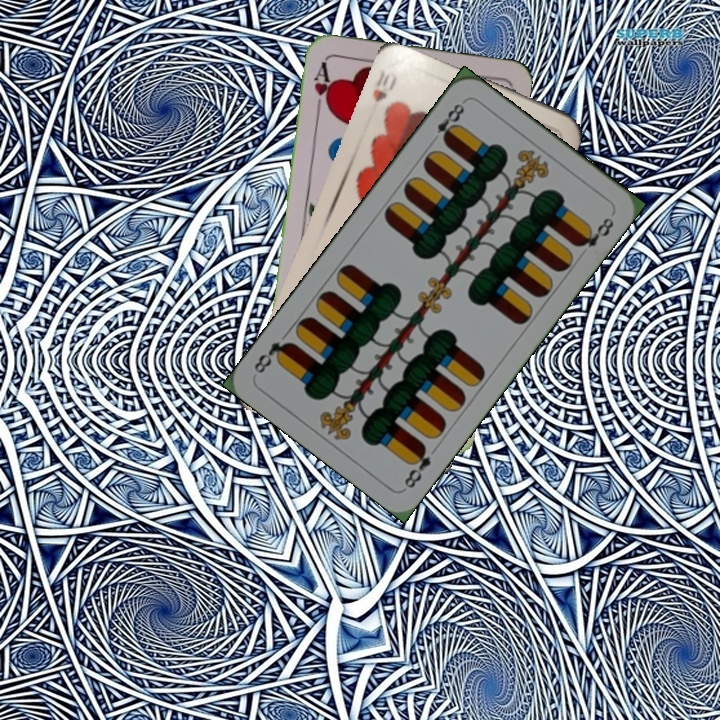E8: (432, 97, 468, 146), (400, 440, 434, 491)
H10: (368, 65, 400, 105)
HA: (310, 55, 335, 114)
